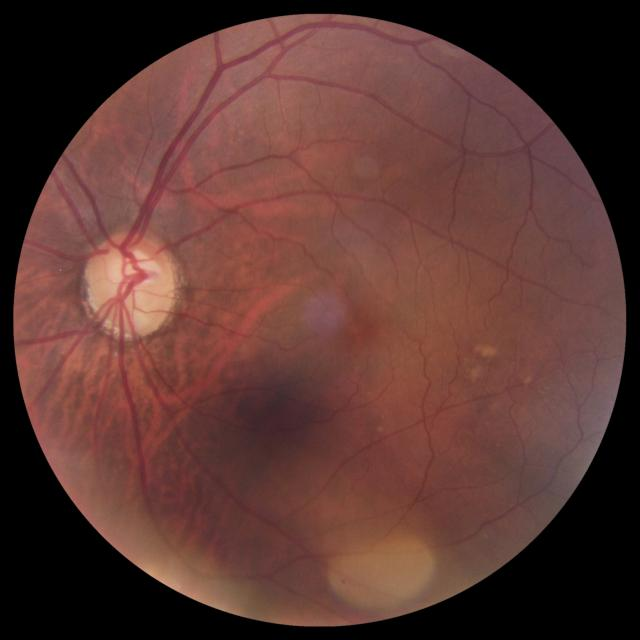OC: (96, 249, 164, 316)
OD: (87, 232, 177, 336)
